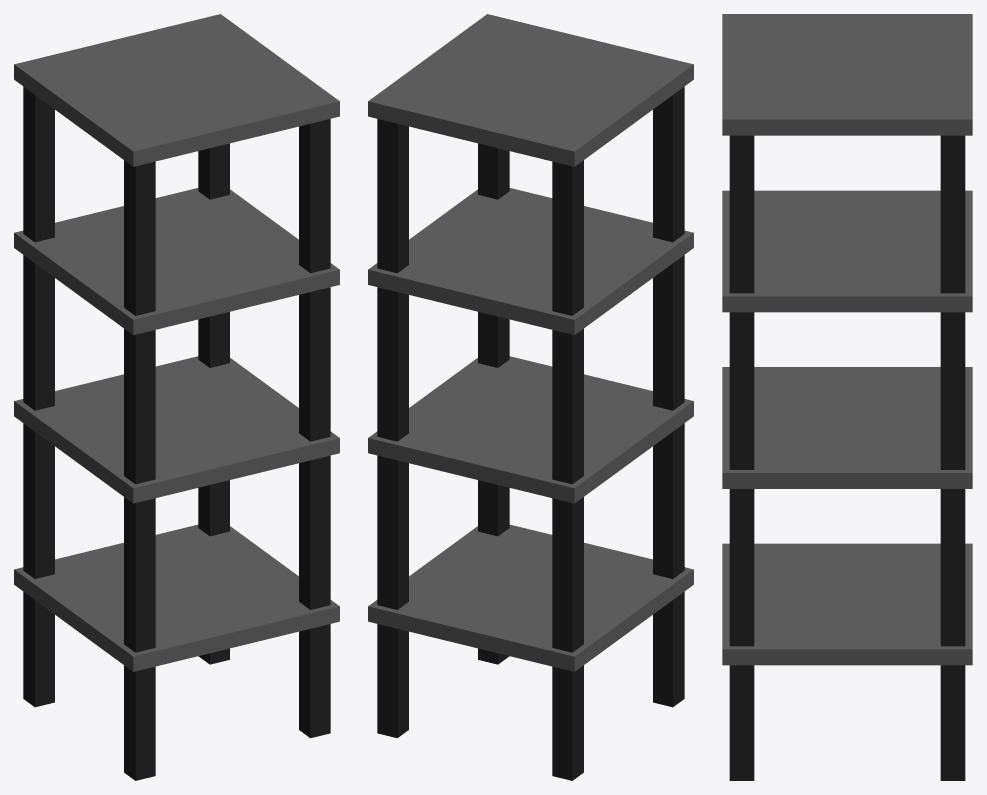
File: Prop_Shelve_12.fbx
3 views of the same model, side by side, from view 1: azimuth 30°, elevation 25°; view 2: azimuth 150°, elevation 25°; view 3: azimuth 270°, elevation 25° (orthographic). The views are drawn at different scales.
Visible parts, largest first — view 1: Prop_Shelve_12; view 2: Prop_Shelve_12; view 3: Prop_Shelve_12.
Part boxes in pixels (box(x1,y1,x2,y2)): Prop_Shelve_12: box(14, 14, 339, 780); Prop_Shelve_12: box(368, 14, 693, 780); Prop_Shelve_12: box(722, 14, 972, 780).
Bounding box in the file's own units: 57.96 × 170 × 57.96.
